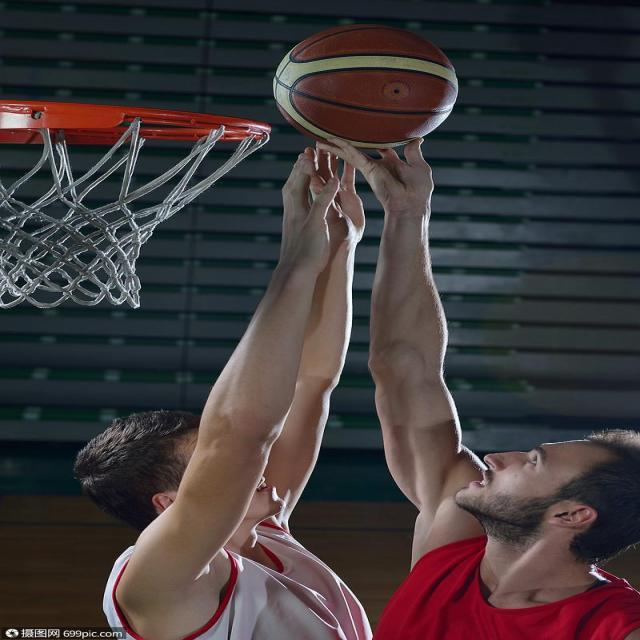rim: (274, 25, 462, 148)
